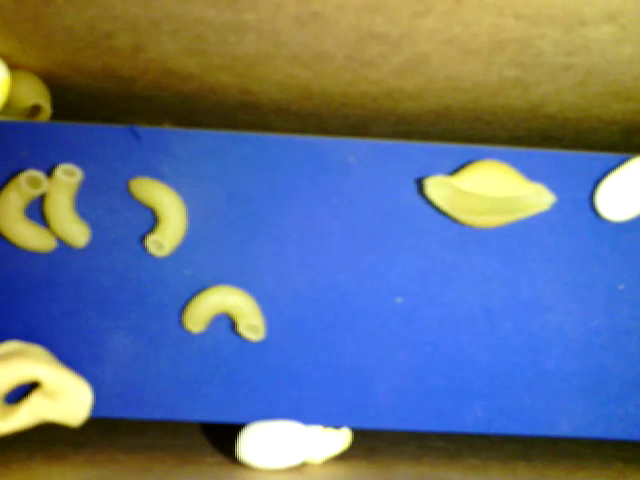elbow: (182, 283, 266, 345), (1, 167, 58, 258), (129, 175, 190, 257), (41, 162, 90, 251)
shell: (420, 155, 558, 228), (3, 67, 52, 124)
tortellini: (1, 338, 94, 438)
